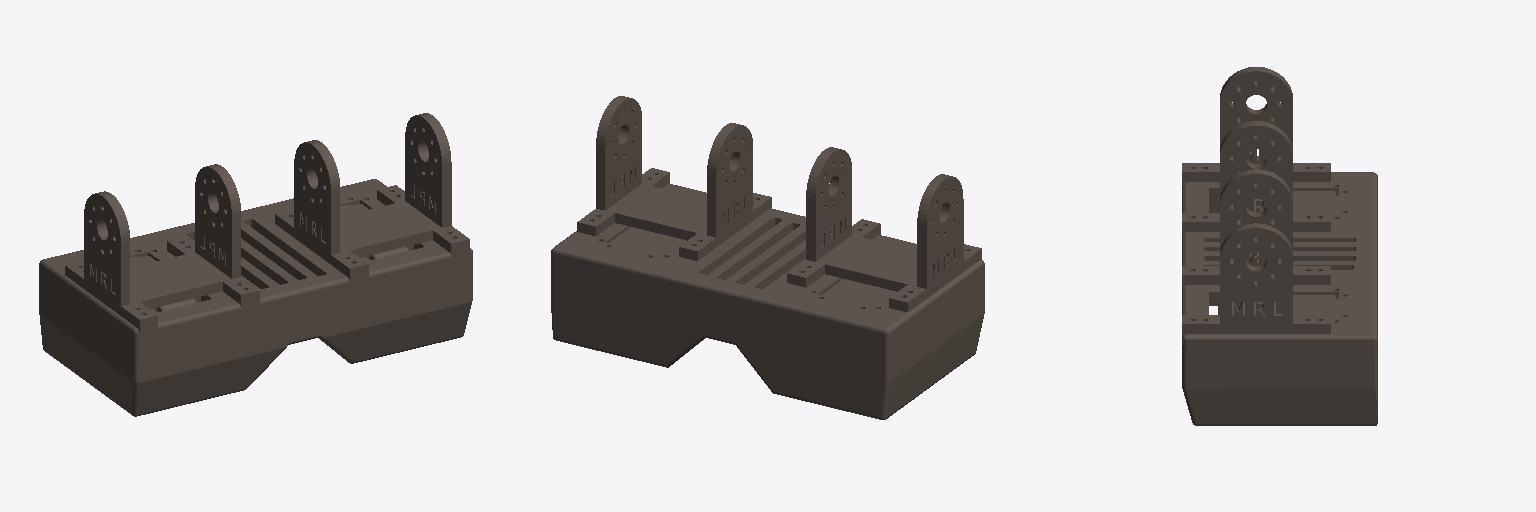
File: Waist.obj
3 renders of one model, left to right at view 1: azimuth 30°, elevation 25°; view 2: azimuth 150°, elevation 25°; view 3: azimuth 270°, elevation 25°, orthographic.
Bounding box in the file's own units: 18 × 11.03 × 9.